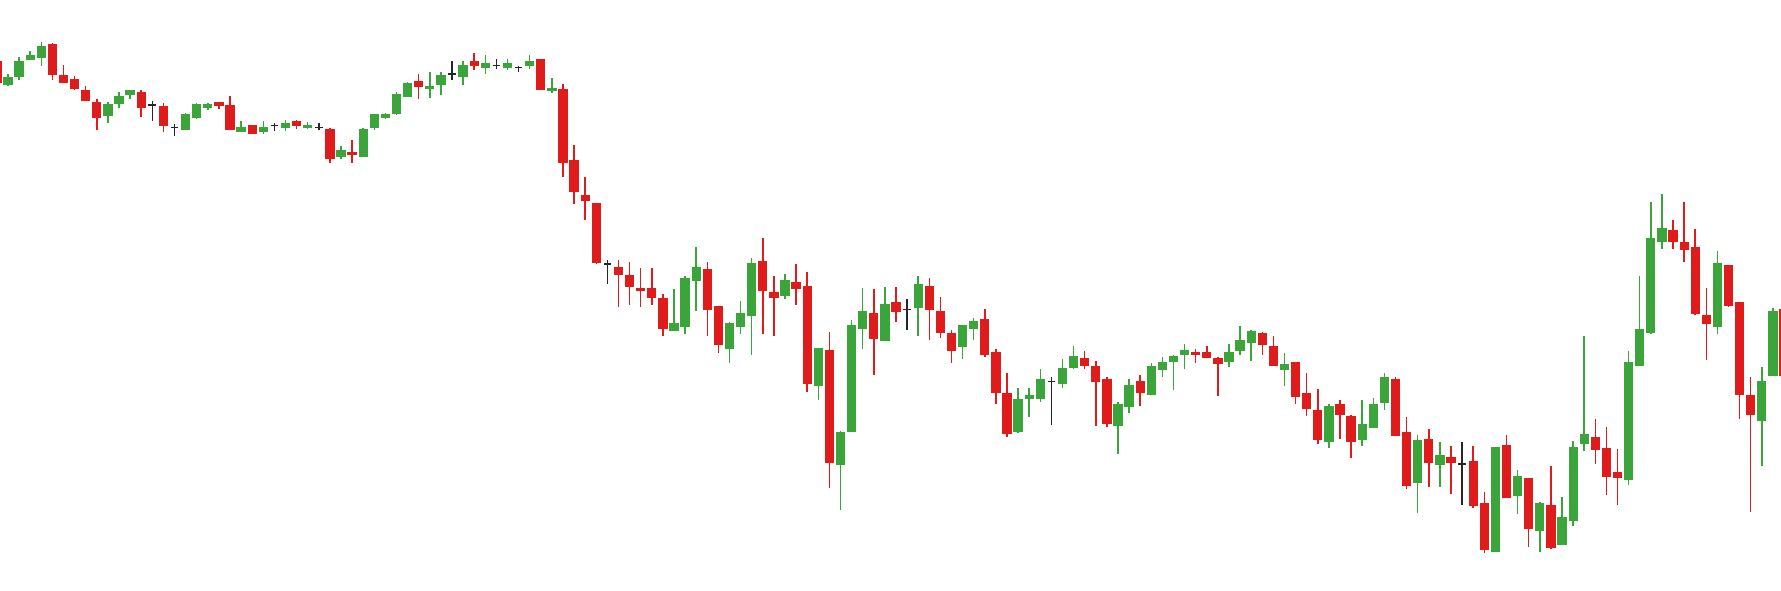buy: (1399, 442, 1504, 559)
sell: (688, 238, 772, 322)
